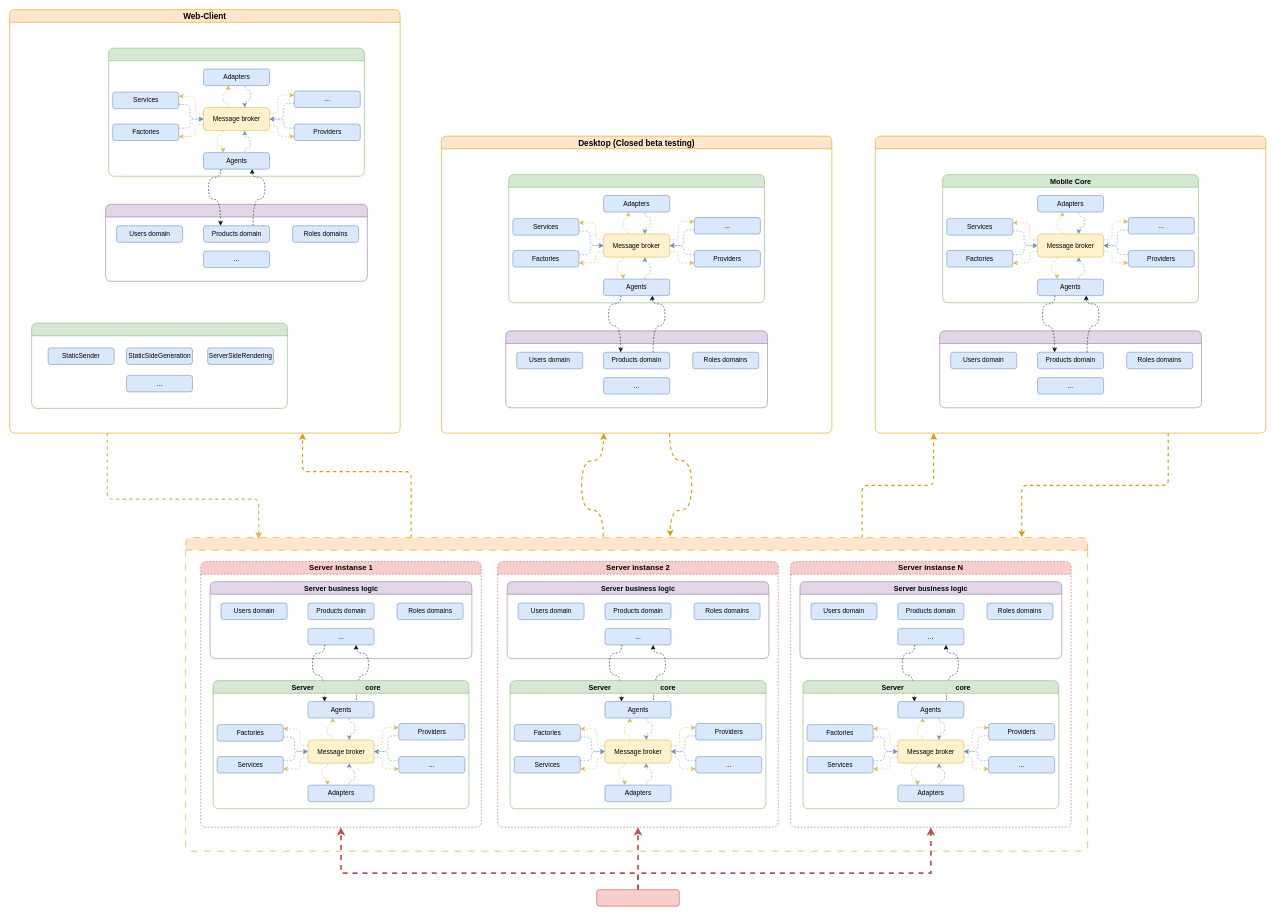
Image size: 1275x916. Some labels were removed from this diagram. Each missing label, with the box of its shape:
Desktop business logic: (505, 330, 768, 408)
Desktop Core: (508, 174, 765, 303)
Mobile (Closed beta testing): (875, 136, 1266, 433)
Mobile business logic: (939, 330, 1201, 408)
Process manager: (596, 889, 679, 906)
Server Render Static: (31, 323, 287, 408)
Servers: (185, 537, 1088, 851)
Web-Client business logic: (105, 204, 367, 281)
Web-Client Core: (108, 48, 364, 176)
